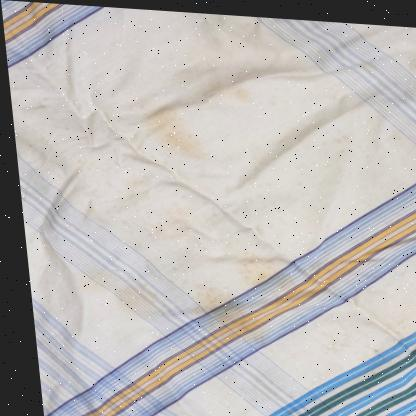spot: (143, 107, 201, 156), (186, 282, 240, 332), (230, 250, 283, 293), (106, 279, 153, 316), (70, 264, 111, 293), (218, 82, 253, 105), (162, 204, 183, 235), (229, 322, 258, 342), (201, 80, 220, 101), (361, 341, 377, 354), (71, 157, 84, 170), (148, 222, 161, 234), (359, 57, 372, 66), (138, 229, 148, 238), (34, 102, 43, 110), (266, 95, 274, 103), (329, 133, 338, 140), (127, 206, 134, 214), (339, 130, 345, 136), (335, 144, 341, 150), (353, 140, 359, 145), (318, 137, 325, 141), (60, 127, 67, 131), (222, 130, 227, 134), (362, 150, 366, 155)
